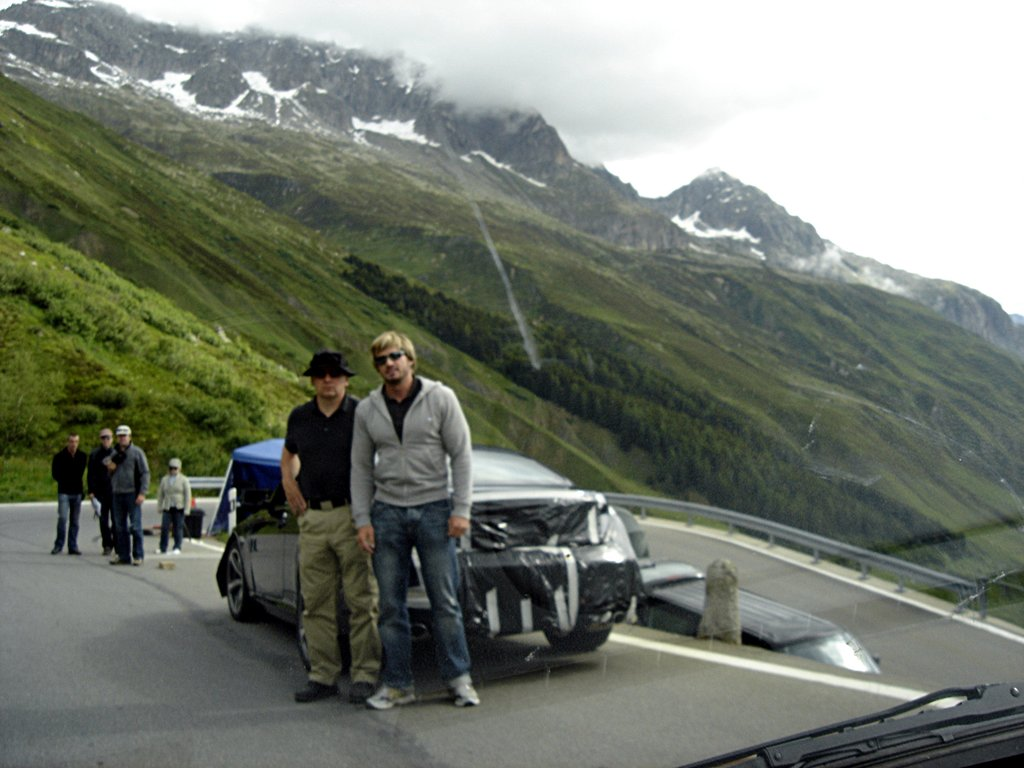Car: (0, 0, 1023, 767), (212, 446, 646, 650), (627, 558, 881, 679)
